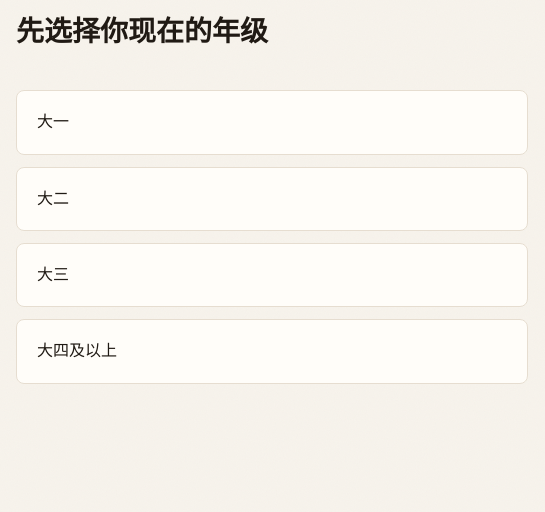
GradePage › 没有可作答题目时显示「信息不足」，不让用户去撞 400（契约延续）
This screenshot has width=545, height=512.
Step 1. Click the button "大一" → (53, 122), box [16, 90, 528, 155]
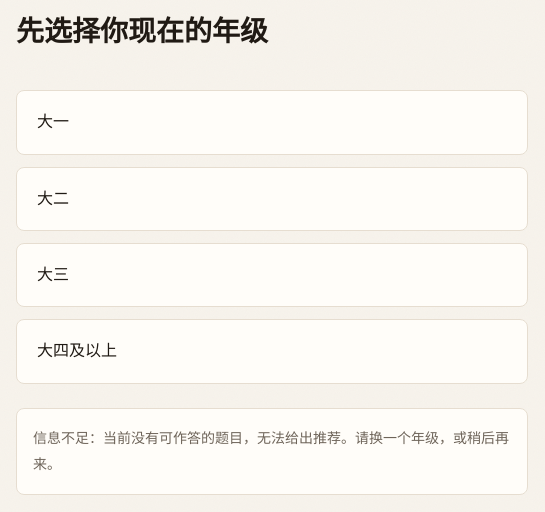
Check: the text "信息不足：当前没有可作答的题目，无法给出推荐。请换一个年级，或稍后再来。" is shown, box [16, 408, 528, 495]
